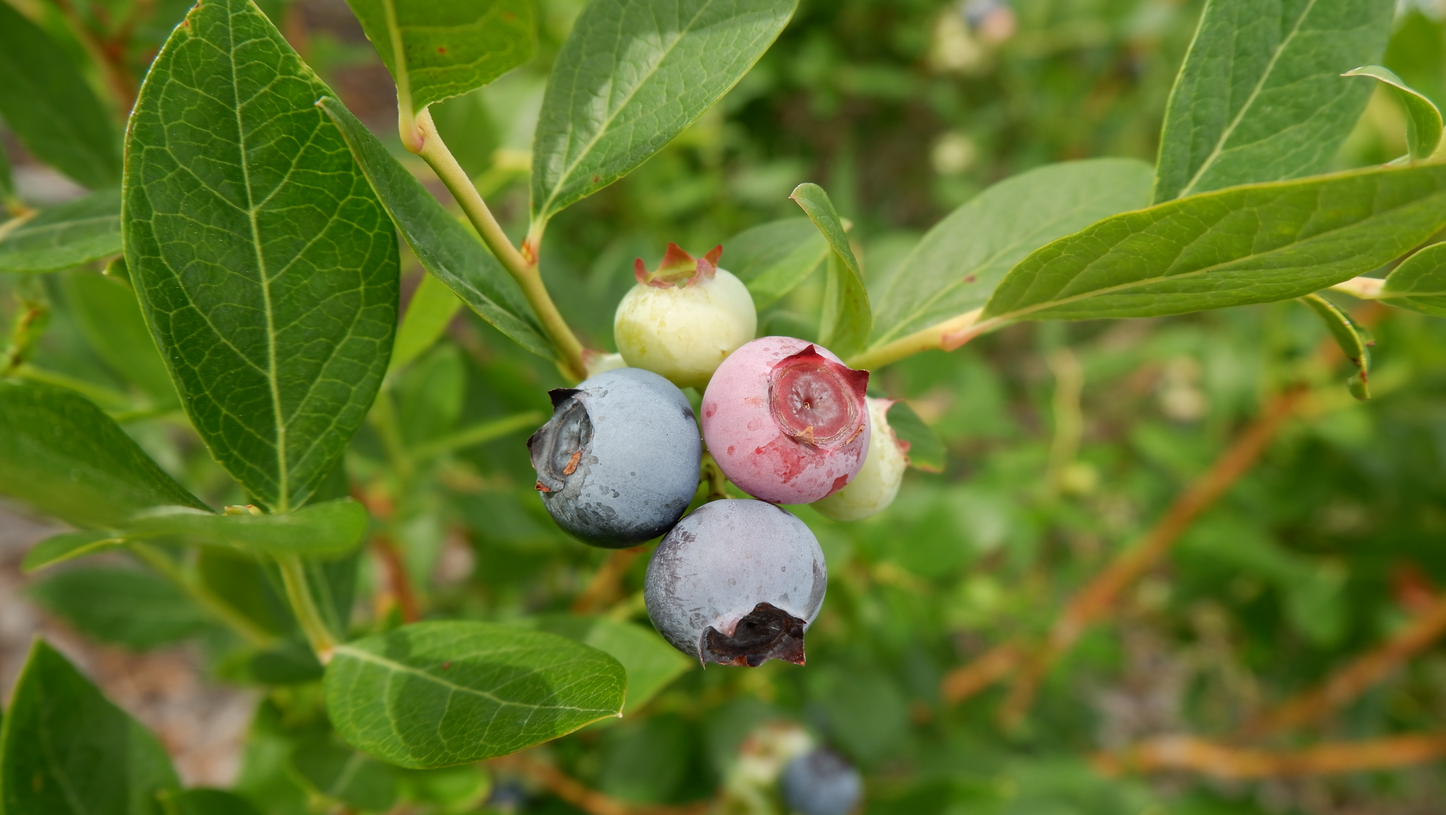Immature: (700, 337, 872, 506), (614, 242, 759, 390), (809, 395, 913, 525), (579, 347, 627, 381)
Mature: (528, 366, 702, 550), (643, 498, 828, 670)
